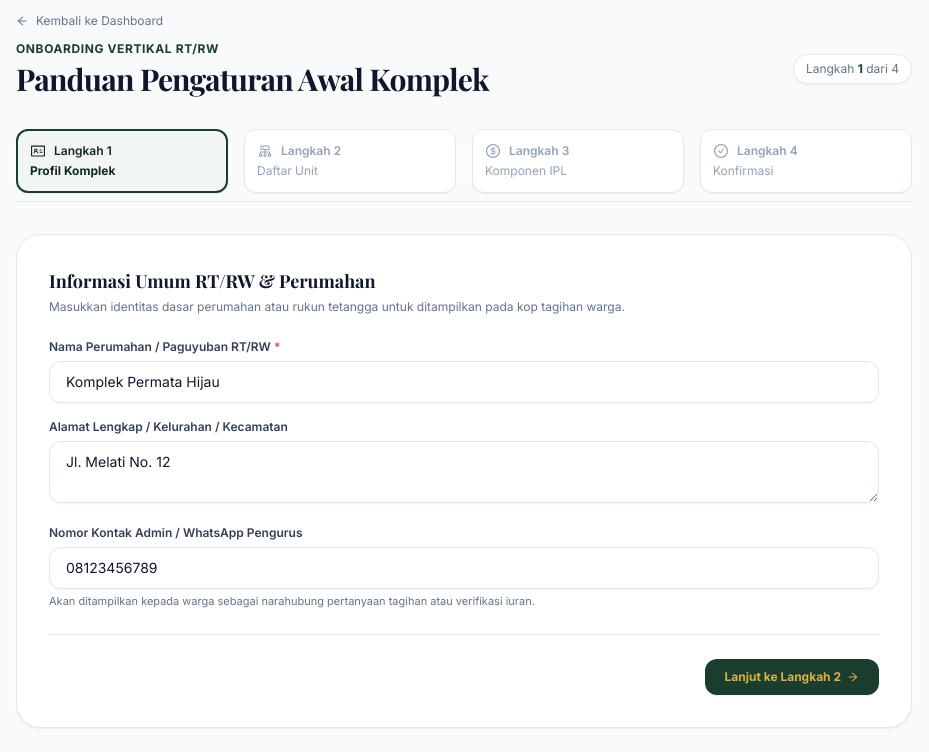
Scenario: SetupWizard — Logika Idempoten & Aman Dijalankan Ulang (RTRW-2.5) › Component Flow: SetupWizard Execution › c.1: jika kode undangan sudah ada → saveInviteCodeWithRetry tidak dipanggil dan kode lama dipakai
Expected: the heading "Panduan Pengaturan Awal Komplek" is shown, [16,61,489,97]
Pindah ke Step 4 & Simpan
Click the button "Langkah 4 Konfirmasi": (806, 161) [700,129,912,193]
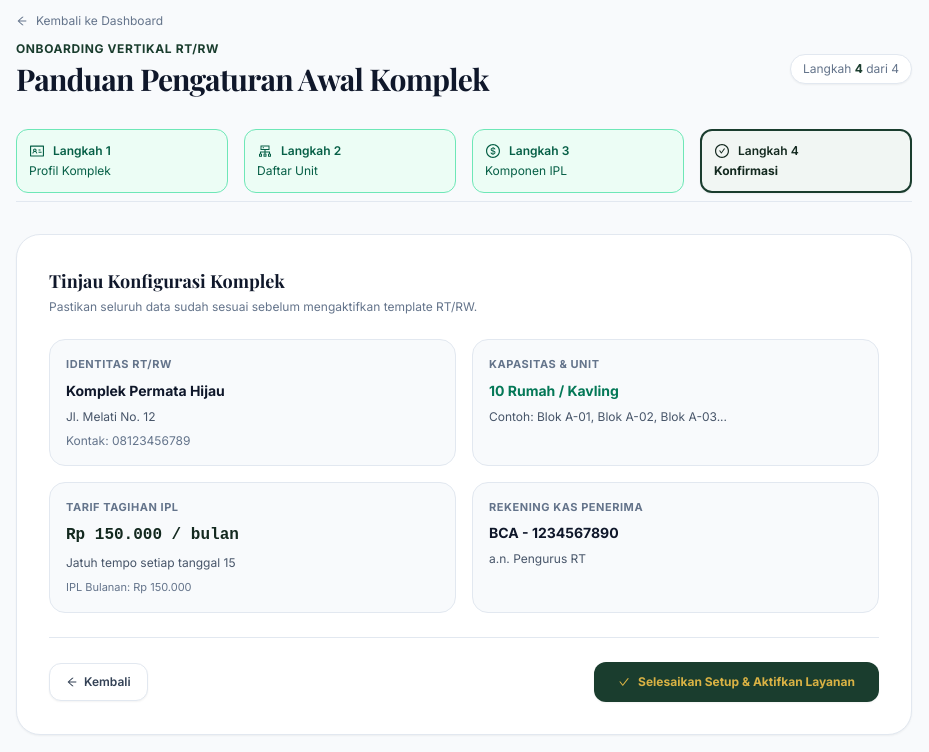
Click the button "Selesaikan Setup & Aktifkan Layanan": (737, 682) [594,662,879,702]
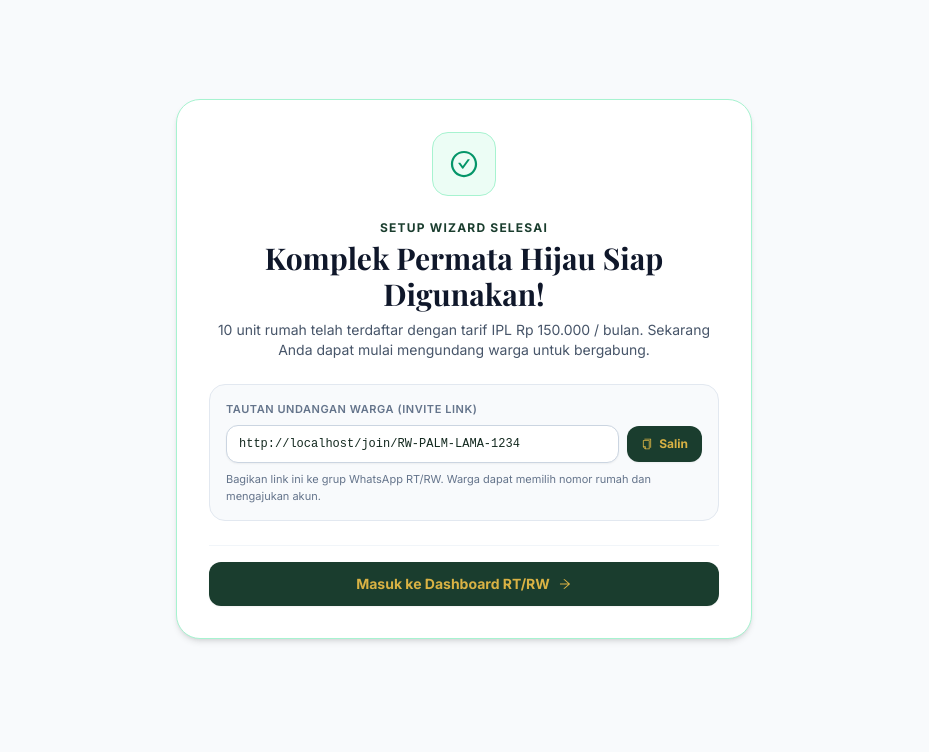
Result: the text "Setup Wizard Selesai" is shown at [380,220,548,235]
Result: the field showing "RW-PALM-LAMA-1234" is shown at [226,425,619,463]
